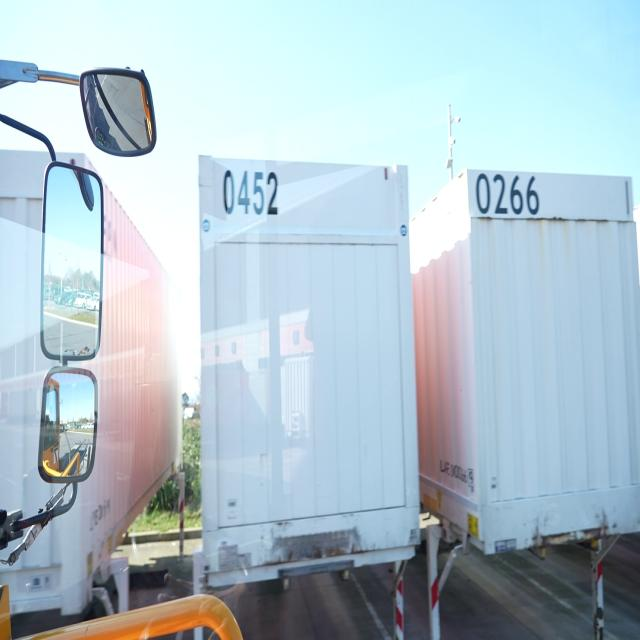Code: (472, 166, 542, 222), (221, 165, 283, 223)
